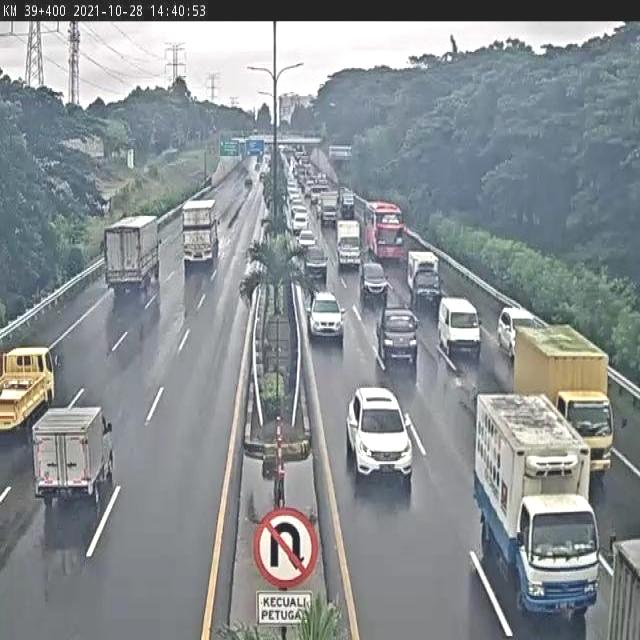Bus: (364, 199, 409, 256)
Car: (347, 380, 417, 492), (302, 280, 347, 349), (377, 301, 421, 371), (493, 301, 535, 362), (360, 260, 390, 302), (302, 249, 331, 281), (293, 227, 317, 255), (292, 214, 312, 233)
Truck: (462, 390, 612, 615), (502, 306, 612, 473), (28, 395, 124, 522), (0, 340, 59, 435), (103, 216, 159, 297), (180, 196, 223, 289), (409, 257, 442, 313), (336, 221, 364, 268), (318, 191, 340, 226)
Van: (436, 294, 482, 361)
